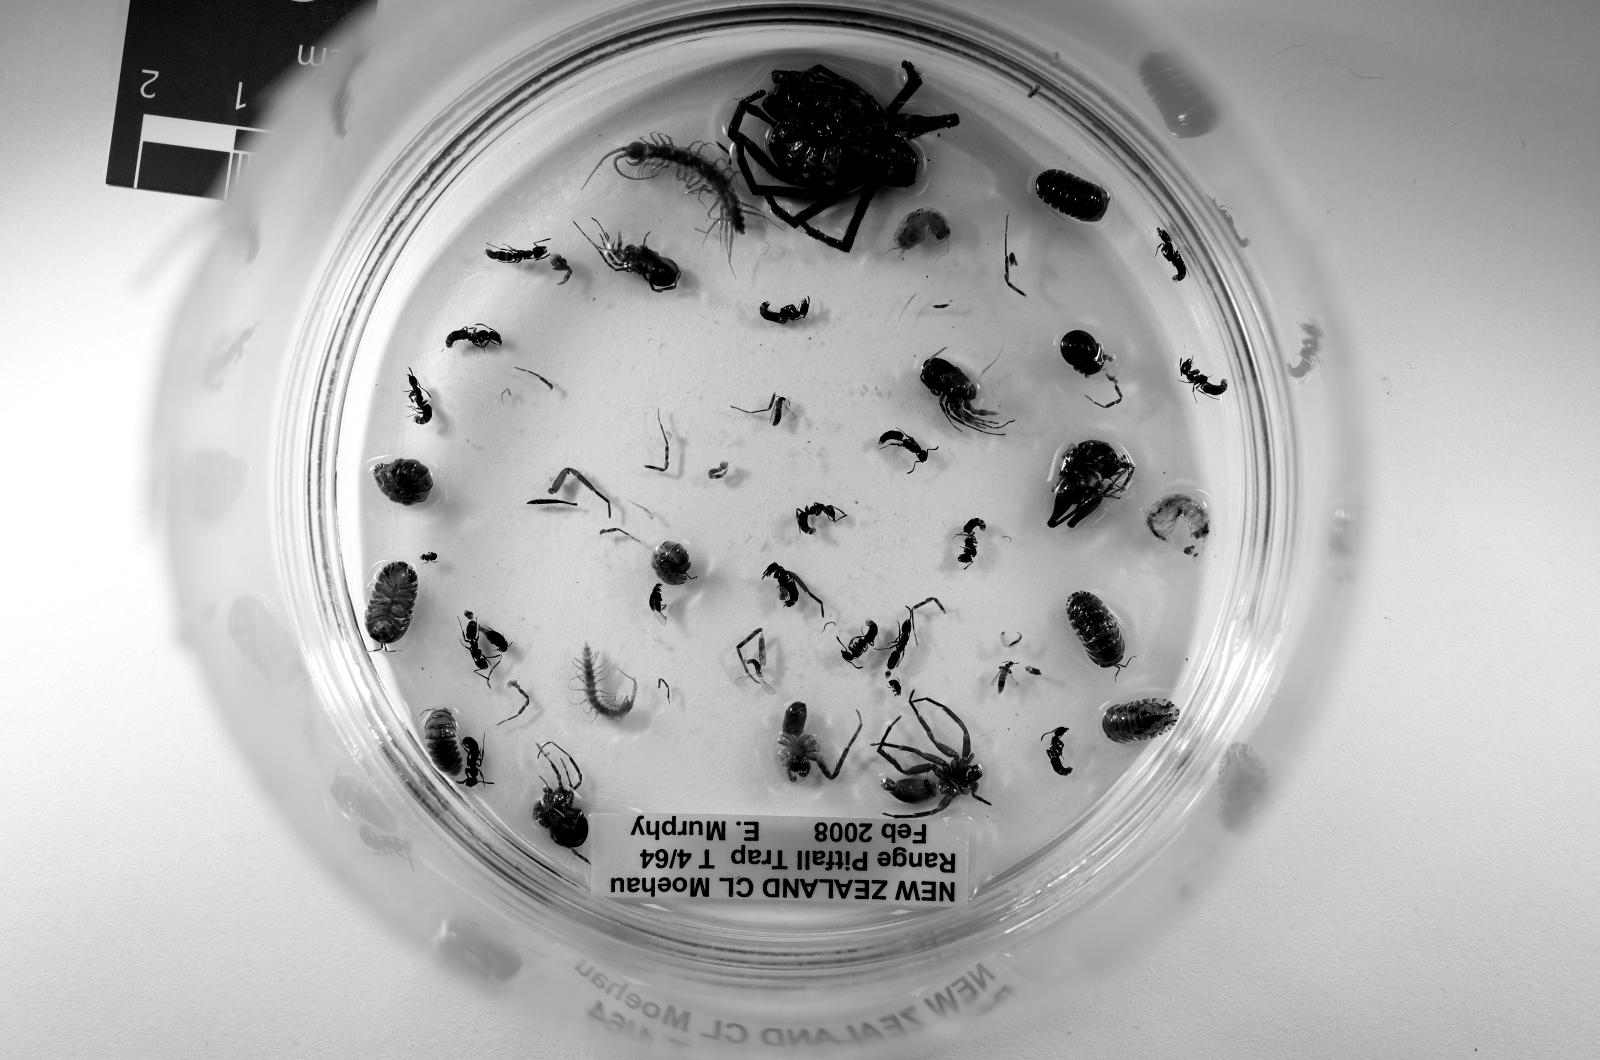amphipoda: (1147, 493, 1210, 543), (894, 208, 950, 252)
araneae: (728, 62, 959, 252), (879, 692, 982, 814), (778, 702, 862, 783)
chilopoda: (594, 134, 765, 264), (572, 642, 637, 720)
coleoptera: (462, 612, 497, 686), (879, 428, 938, 468), (763, 562, 807, 608), (1178, 360, 1229, 397), (837, 621, 879, 667), (1157, 227, 1187, 283), (485, 239, 550, 264), (797, 503, 847, 535), (407, 369, 434, 426), (887, 615, 913, 674), (1041, 726, 1071, 776), (957, 518, 987, 565), (759, 298, 809, 327), (459, 736, 485, 789), (447, 327, 503, 348), (478, 625, 510, 652), (772, 397, 797, 426), (650, 584, 666, 625), (997, 661, 1016, 692)
diptera: (887, 680, 903, 696), (422, 552, 438, 562)
isopoda: (365, 562, 419, 649), (1065, 593, 1125, 667), (1035, 168, 1109, 224), (1103, 699, 1178, 742), (371, 459, 434, 506), (422, 707, 462, 776), (650, 541, 691, 584)
opiliones: (919, 354, 1006, 435), (535, 742, 588, 857), (594, 227, 681, 292), (1060, 329, 1113, 376)
orthoptera: (1047, 441, 1134, 528)
